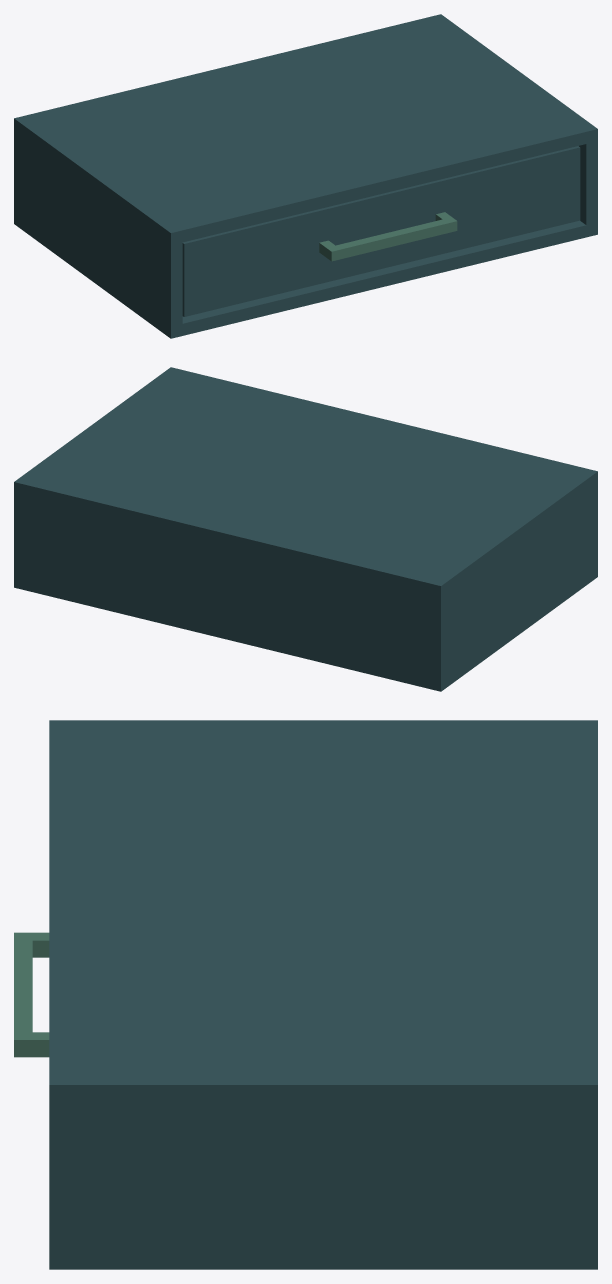
Rendered from SM_Hub_Workbench_Drawer.glb.
3 views of the same model, one above another, from view 1: azimuth 30°, elevation 25°; view 2: azimuth 150°, elevation 25°; view 3: azimuth 270°, elevation 25° (orthographic). The views are drawn at different scales.
Visible parts, largest first — view 1: SM_Hub_Workbench_Drawer_Casing, SM_Hub_Workbench_Drawer_Tray; view 2: SM_Hub_Workbench_Drawer_Casing; view 3: SM_Hub_Workbench_Drawer_Casing, SM_Hub_Workbench_Drawer_Tray.
Boxes of the visible parts, bbox=[...] form: SM_Hub_Workbench_Drawer_Casing: bbox=[14, 14, 597, 338]; SM_Hub_Workbench_Drawer_Tray: bbox=[182, 146, 580, 316]; SM_Hub_Workbench_Drawer_Casing: bbox=[14, 367, 597, 691]; SM_Hub_Workbench_Drawer_Casing: bbox=[49, 720, 597, 1269]; SM_Hub_Workbench_Drawer_Tray: bbox=[14, 932, 49, 1057].
Bounding box in the file's own units: 1.1 × 0.26 × 0.745.
